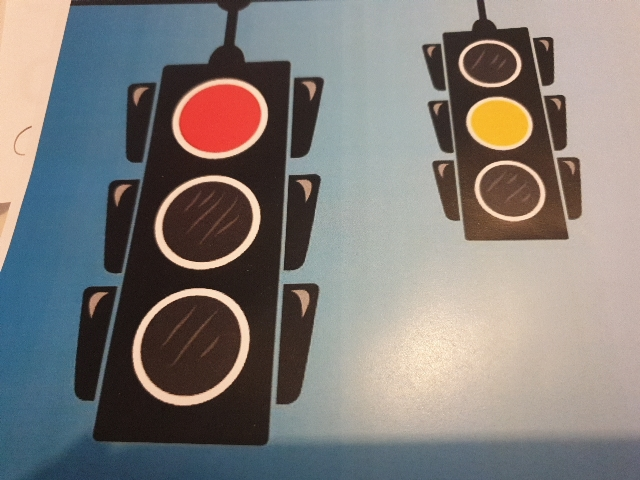amber: (456, 39, 549, 229)
red: (164, 71, 260, 404)
